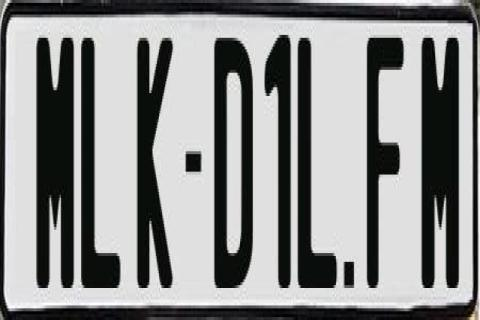0: (265, 26, 296, 288)
D: (214, 38, 255, 306)
F: (366, 35, 402, 294)
K: (134, 38, 174, 300)
L: (78, 35, 124, 285), (298, 29, 339, 285)
M: (421, 29, 465, 291), (35, 35, 76, 285)
